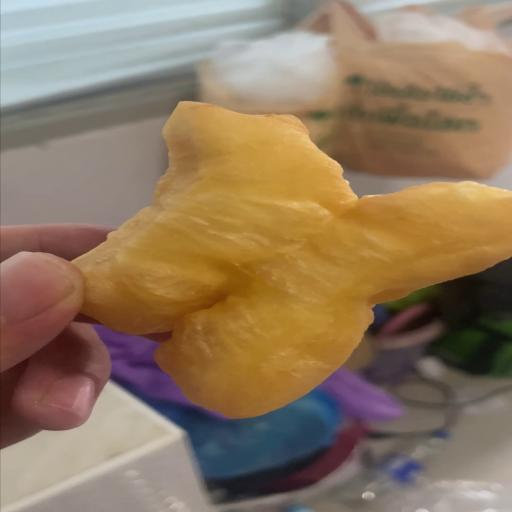street_golden_good: (74, 102, 512, 411)
